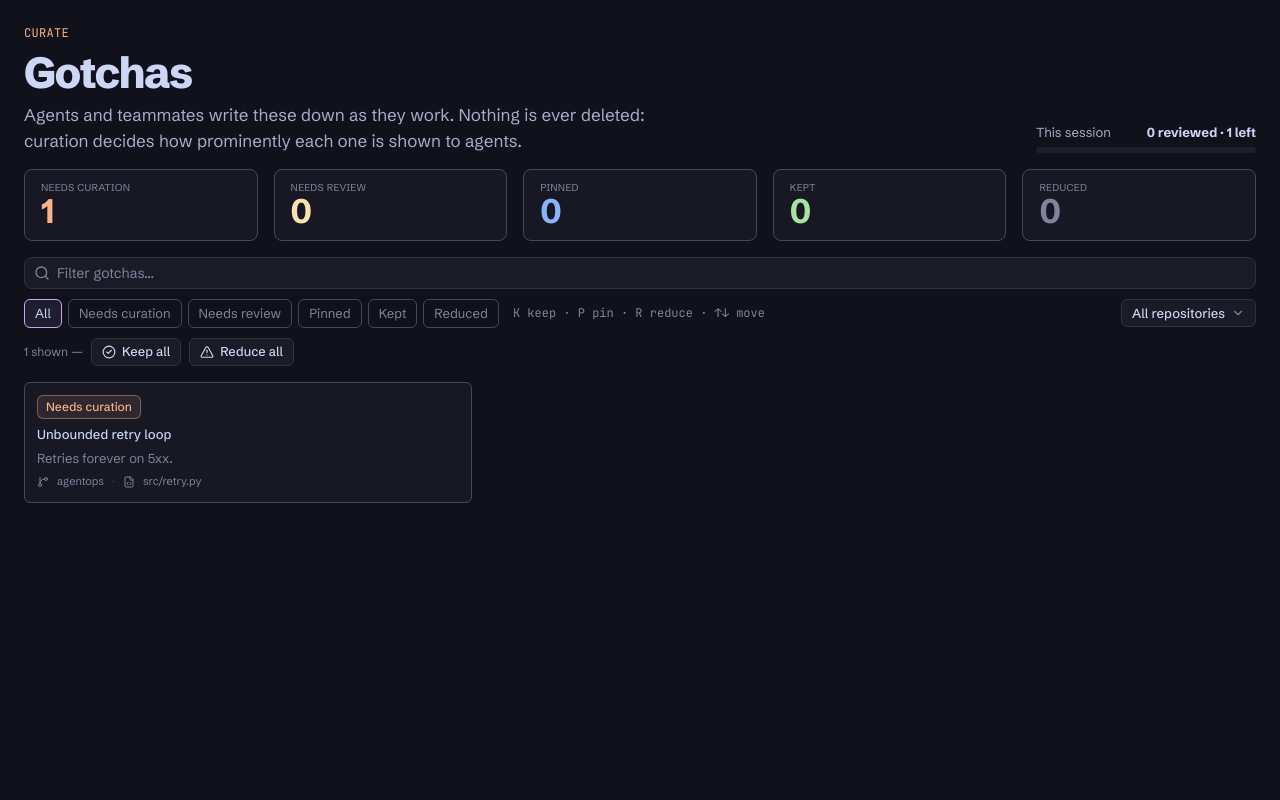
GotchasPage › shows an error with a retry button when the detail fetch fails, instead of loading forever
What coordinates should you click on to do the following:
click the text "Unbounded retry loop"
I would click on:
 (104, 434)
Its box is x1=37 y1=425 x2=171 y2=443.
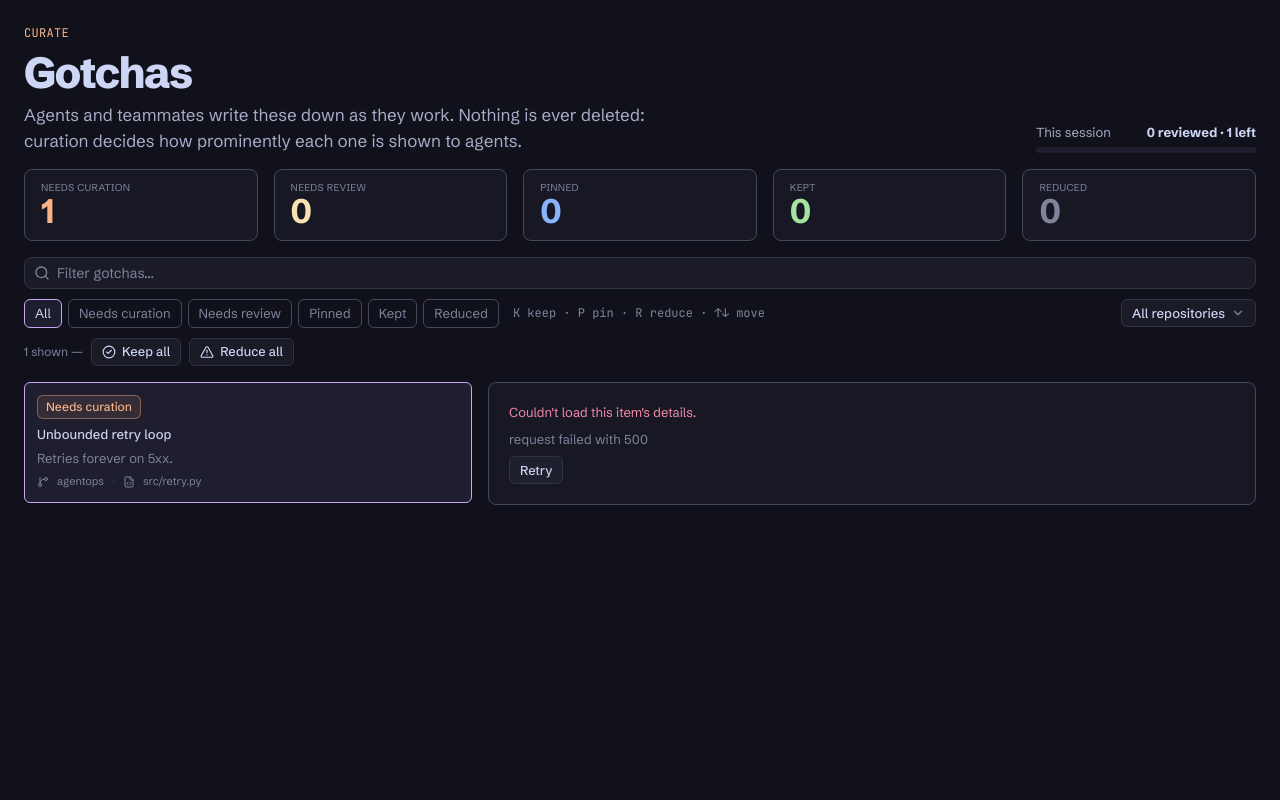
Now the text "Couldn't load this item's details." is shown, box x1=509 y1=404 x2=696 y2=420
Now the text "request failed with 500" is shown, box x1=509 y1=431 x2=648 y2=447
What coordinates should you click on to do the following:
click the button "Retry"
I would click on:
 (536, 470)
Its box is x1=509 y1=456 x2=564 y2=484.
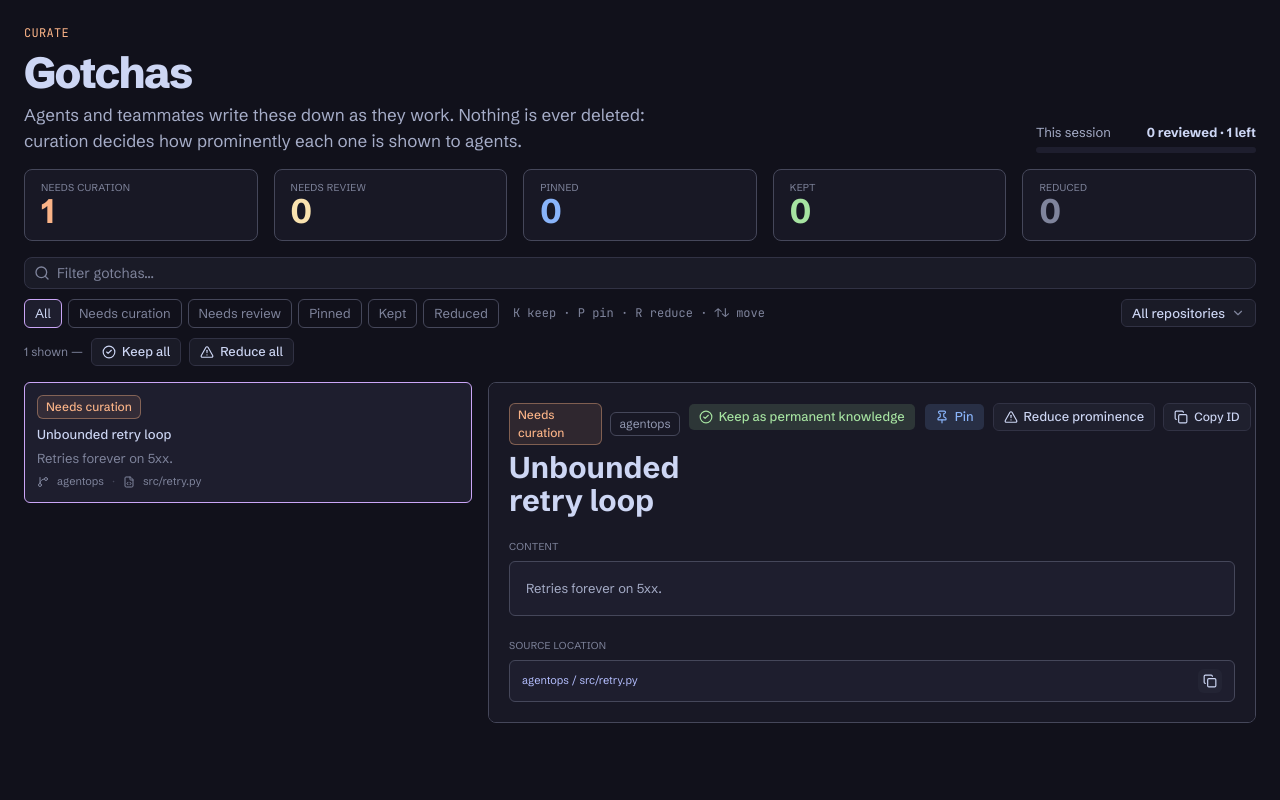
Now the button "Keep as permanent knowledge" is shown, box x1=688 y1=403 x2=916 y2=431
